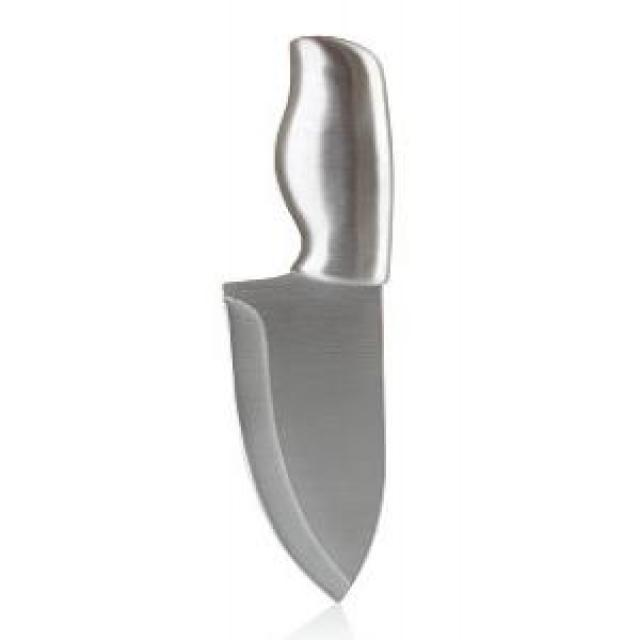knife: (222, 32, 403, 598)
